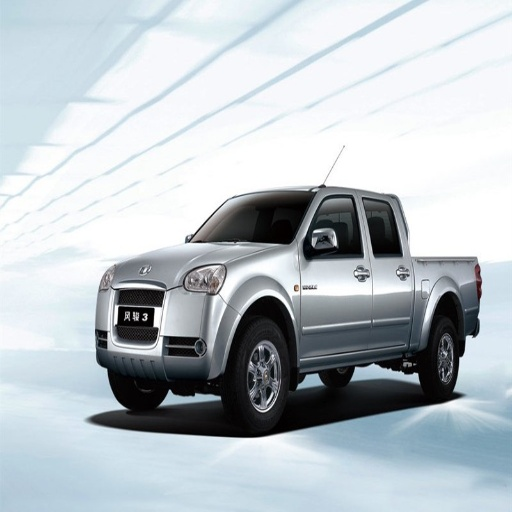back_left_door: (358, 195, 406, 343)
front_bumper: (95, 280, 239, 381)
front_glass: (189, 194, 305, 243)
front_left_door: (302, 191, 372, 353)
trunk: (408, 258, 483, 347)
